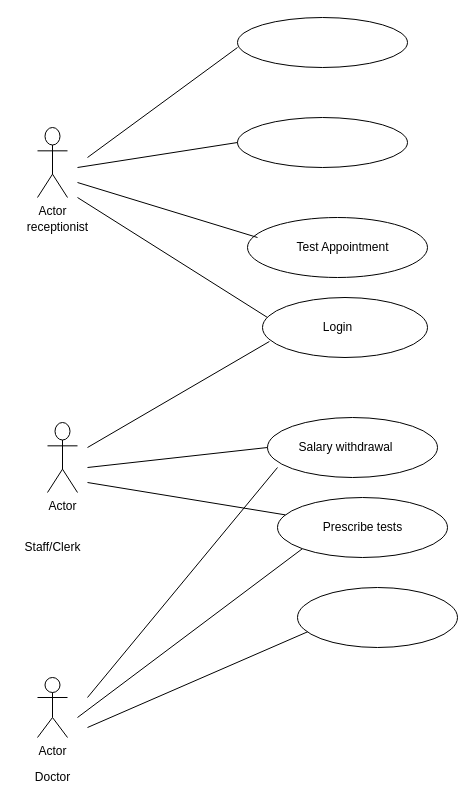
The diagram is 475 pixels wide and 805 high, and some of its shapes have lost their labels. The shapes that lost their labels are listed below. From the top down, each one's centre as x and y in pixels, then its label:
At (x=322, y=42): "Admission".
At (x=322, y=142): "Doctor Appointment".
At (x=377, y=617): "Patient Info".
